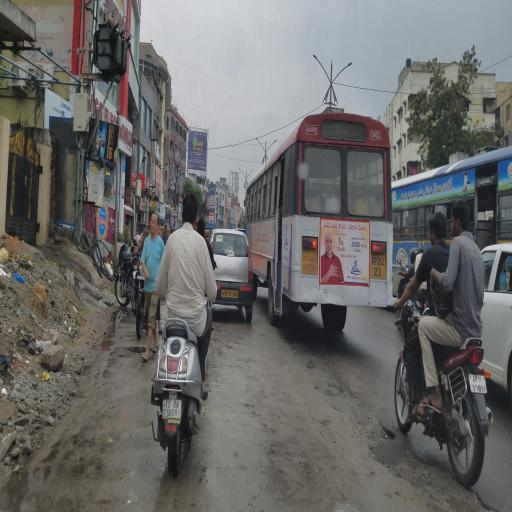street_light_0: (307, 47, 331, 101), (330, 56, 356, 104), (248, 129, 264, 165), (262, 128, 278, 164)
